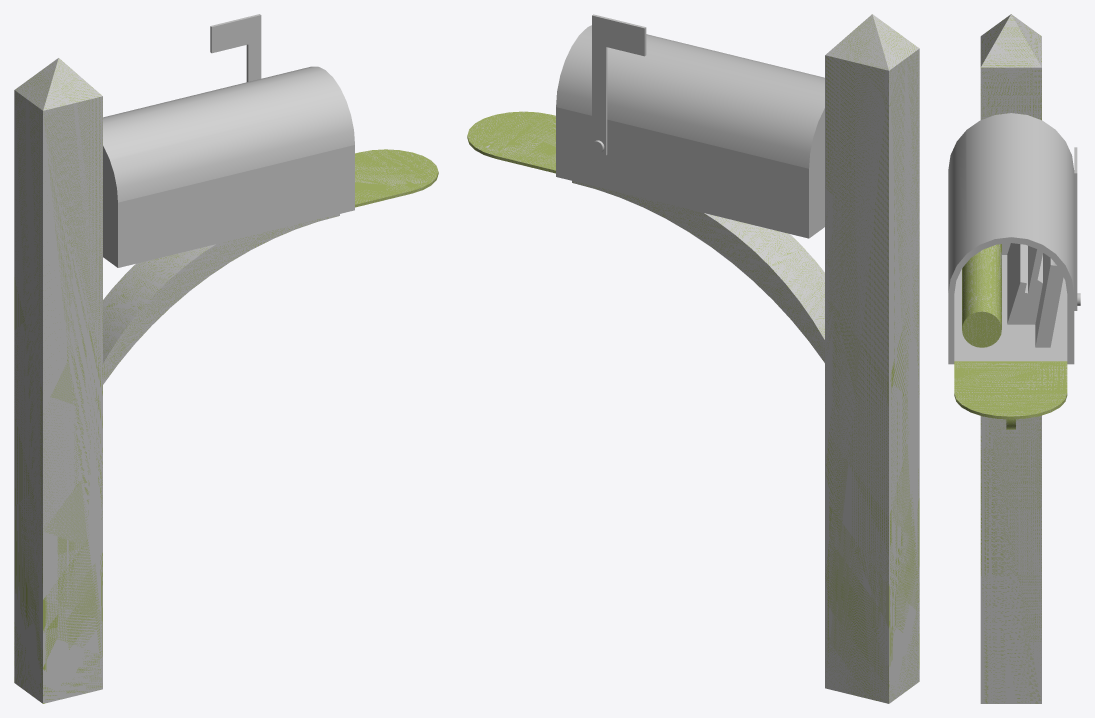
3 views of the same model, side by side, from view 1: azimuth 30°, elevation 25°; view 2: azimuth 150°, elevation 25°; view 3: azimuth 270°, elevation 25° (orthographic). The views are drawn at different scales.
Visible parts, largest first — view 1: mesh4_mesh4-geometry, mesh6_mesh6-geometry; view 2: mesh4_mesh4-geometry, mesh6_mesh6-geometry; view 3: mesh4_mesh4-geometry, mesh5_mesh5-geometry, mesh6_mesh6-geometry.
Boxes of the visible parts, x1,y1,x2,y2 form: mesh4_mesh4-geometry: (14,58,438,703); mesh6_mesh6-geometry: (210,14,261,81); mesh4_mesh4-geometry: (467,14,919,703); mesh6_mesh6-geometry: (591,14,646,155); mesh4_mesh4-geometry: (948,14,1074,703); mesh5_mesh5-geometry: (962,244,1001,347); mesh6_mesh6-geometry: (1074,147,1080,310).
Size of the model in its own units: 0.5507 by 0.8218 by 0.1461.
